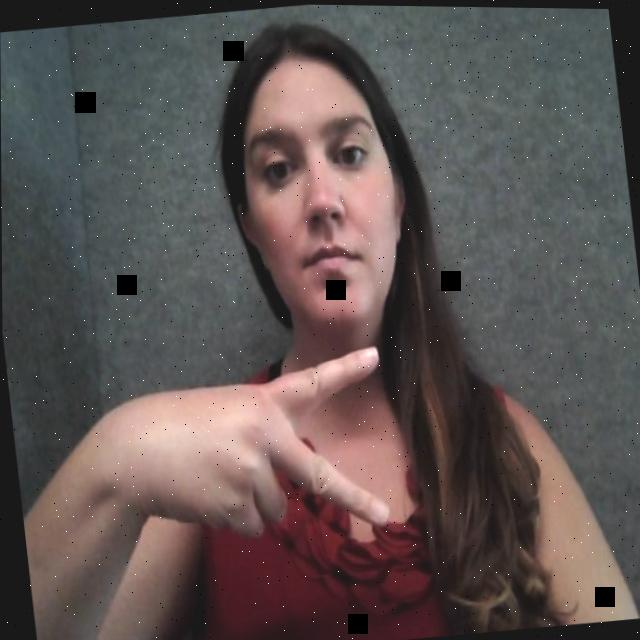Scissors: (54, 309, 431, 640)
